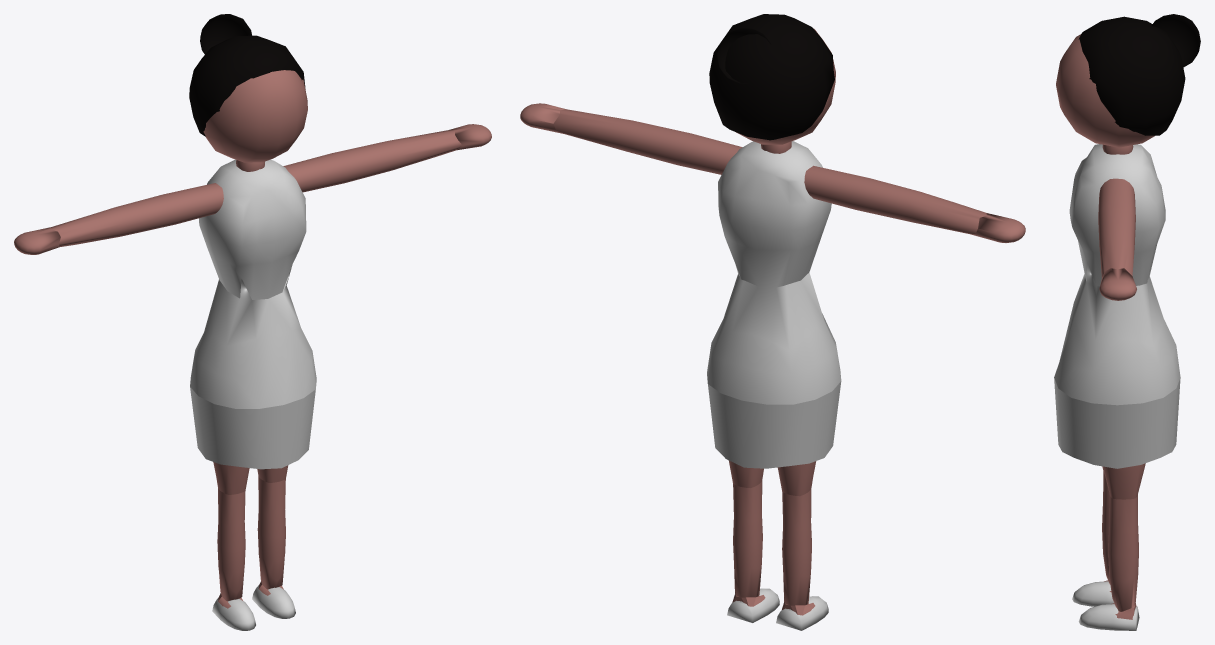
Rendered from nurseV2.obj.
3 views of the same model, side by side, from view 1: azimuth 30°, elevation 25°; view 2: azimuth 150°, elevation 25°; view 3: azimuth 270°, elevation 25° (orthographic). The views are drawn at different scales.
Visible parts, largest first — view 1: Cube.003_Cube.004, Cube.007_Cube.008, Cube.002_Cube.003, Cube.004_Cube.009, Cube.005_Cube, Cube_Cube.001, Cube.001_Cube.006, Cube.006_Cube.002, Cube.009_Cube.007, Cube.008_Cube.005; view 2: Cube.003_Cube.004, Cube.005_Cube, Cube.002_Cube.003, Cube.004_Cube.009, Cube_Cube.001, Cube.001_Cube.006, Cube.009_Cube.007, Cube.008_Cube.005, Cube.007_Cube.008; view 3: Cube.003_Cube.004, Cube.005_Cube, Cube.001_Cube.006, Cube.007_Cube.008, Cube.004_Cube.009, Cube.006_Cube.002, Cube.009_Cube.007, Cube.008_Cube.005, Cube_Cube.001.
Part boxes in pixels (box(x1,y1,x2,y2)): Cube.003_Cube.004: box(190, 159, 316, 469); Cube.007_Cube.008: box(203, 70, 307, 171); Cube.002_Cube.003: box(14, 183, 223, 254); Cube.004_Cube.009: box(283, 124, 491, 192); Cube.005_Cube: box(189, 35, 305, 136); Cube_Cube.001: box(213, 462, 249, 608); Cube.001_Cube.006: box(257, 465, 288, 595); Cube.006_Cube.002: box(200, 14, 251, 54); Cube.009_Cube.007: box(252, 585, 295, 618); Cube.008_Cube.005: box(212, 598, 255, 630); Cube.003_Cube.004: box(707, 141, 841, 468); Cube.005_Cube: box(709, 14, 834, 140); Cube.002_Cube.003: box(804, 165, 1025, 242); Cube.004_Cube.009: box(520, 103, 742, 174); Cube_Cube.001: box(777, 461, 816, 615); Cube.001_Cube.006: box(728, 460, 765, 606); Cube.009_Cube.007: box(727, 588, 779, 622); Cube.008_Cube.005: box(776, 596, 828, 630); Cube.007_Cube.008: box(736, 28, 835, 153); Cube.003_Cube.004: box(1054, 144, 1180, 468); Cube.005_Cube: box(1078, 16, 1185, 135); Cube.001_Cube.006: box(1103, 463, 1145, 619); Cube.007_Cube.008: box(1056, 34, 1154, 154); Cube.004_Cube.009: box(1098, 178, 1136, 300); Cube.006_Cube.002: box(1151, 14, 1200, 67); Cube.009_Cube.007: box(1078, 604, 1139, 630); Cube.008_Cube.005: box(1072, 581, 1113, 606); Cube_Cube.001: box(1102, 466, 1111, 592).
Size of the model in its own units: 1.88 by 2.18 by 0.4868.
